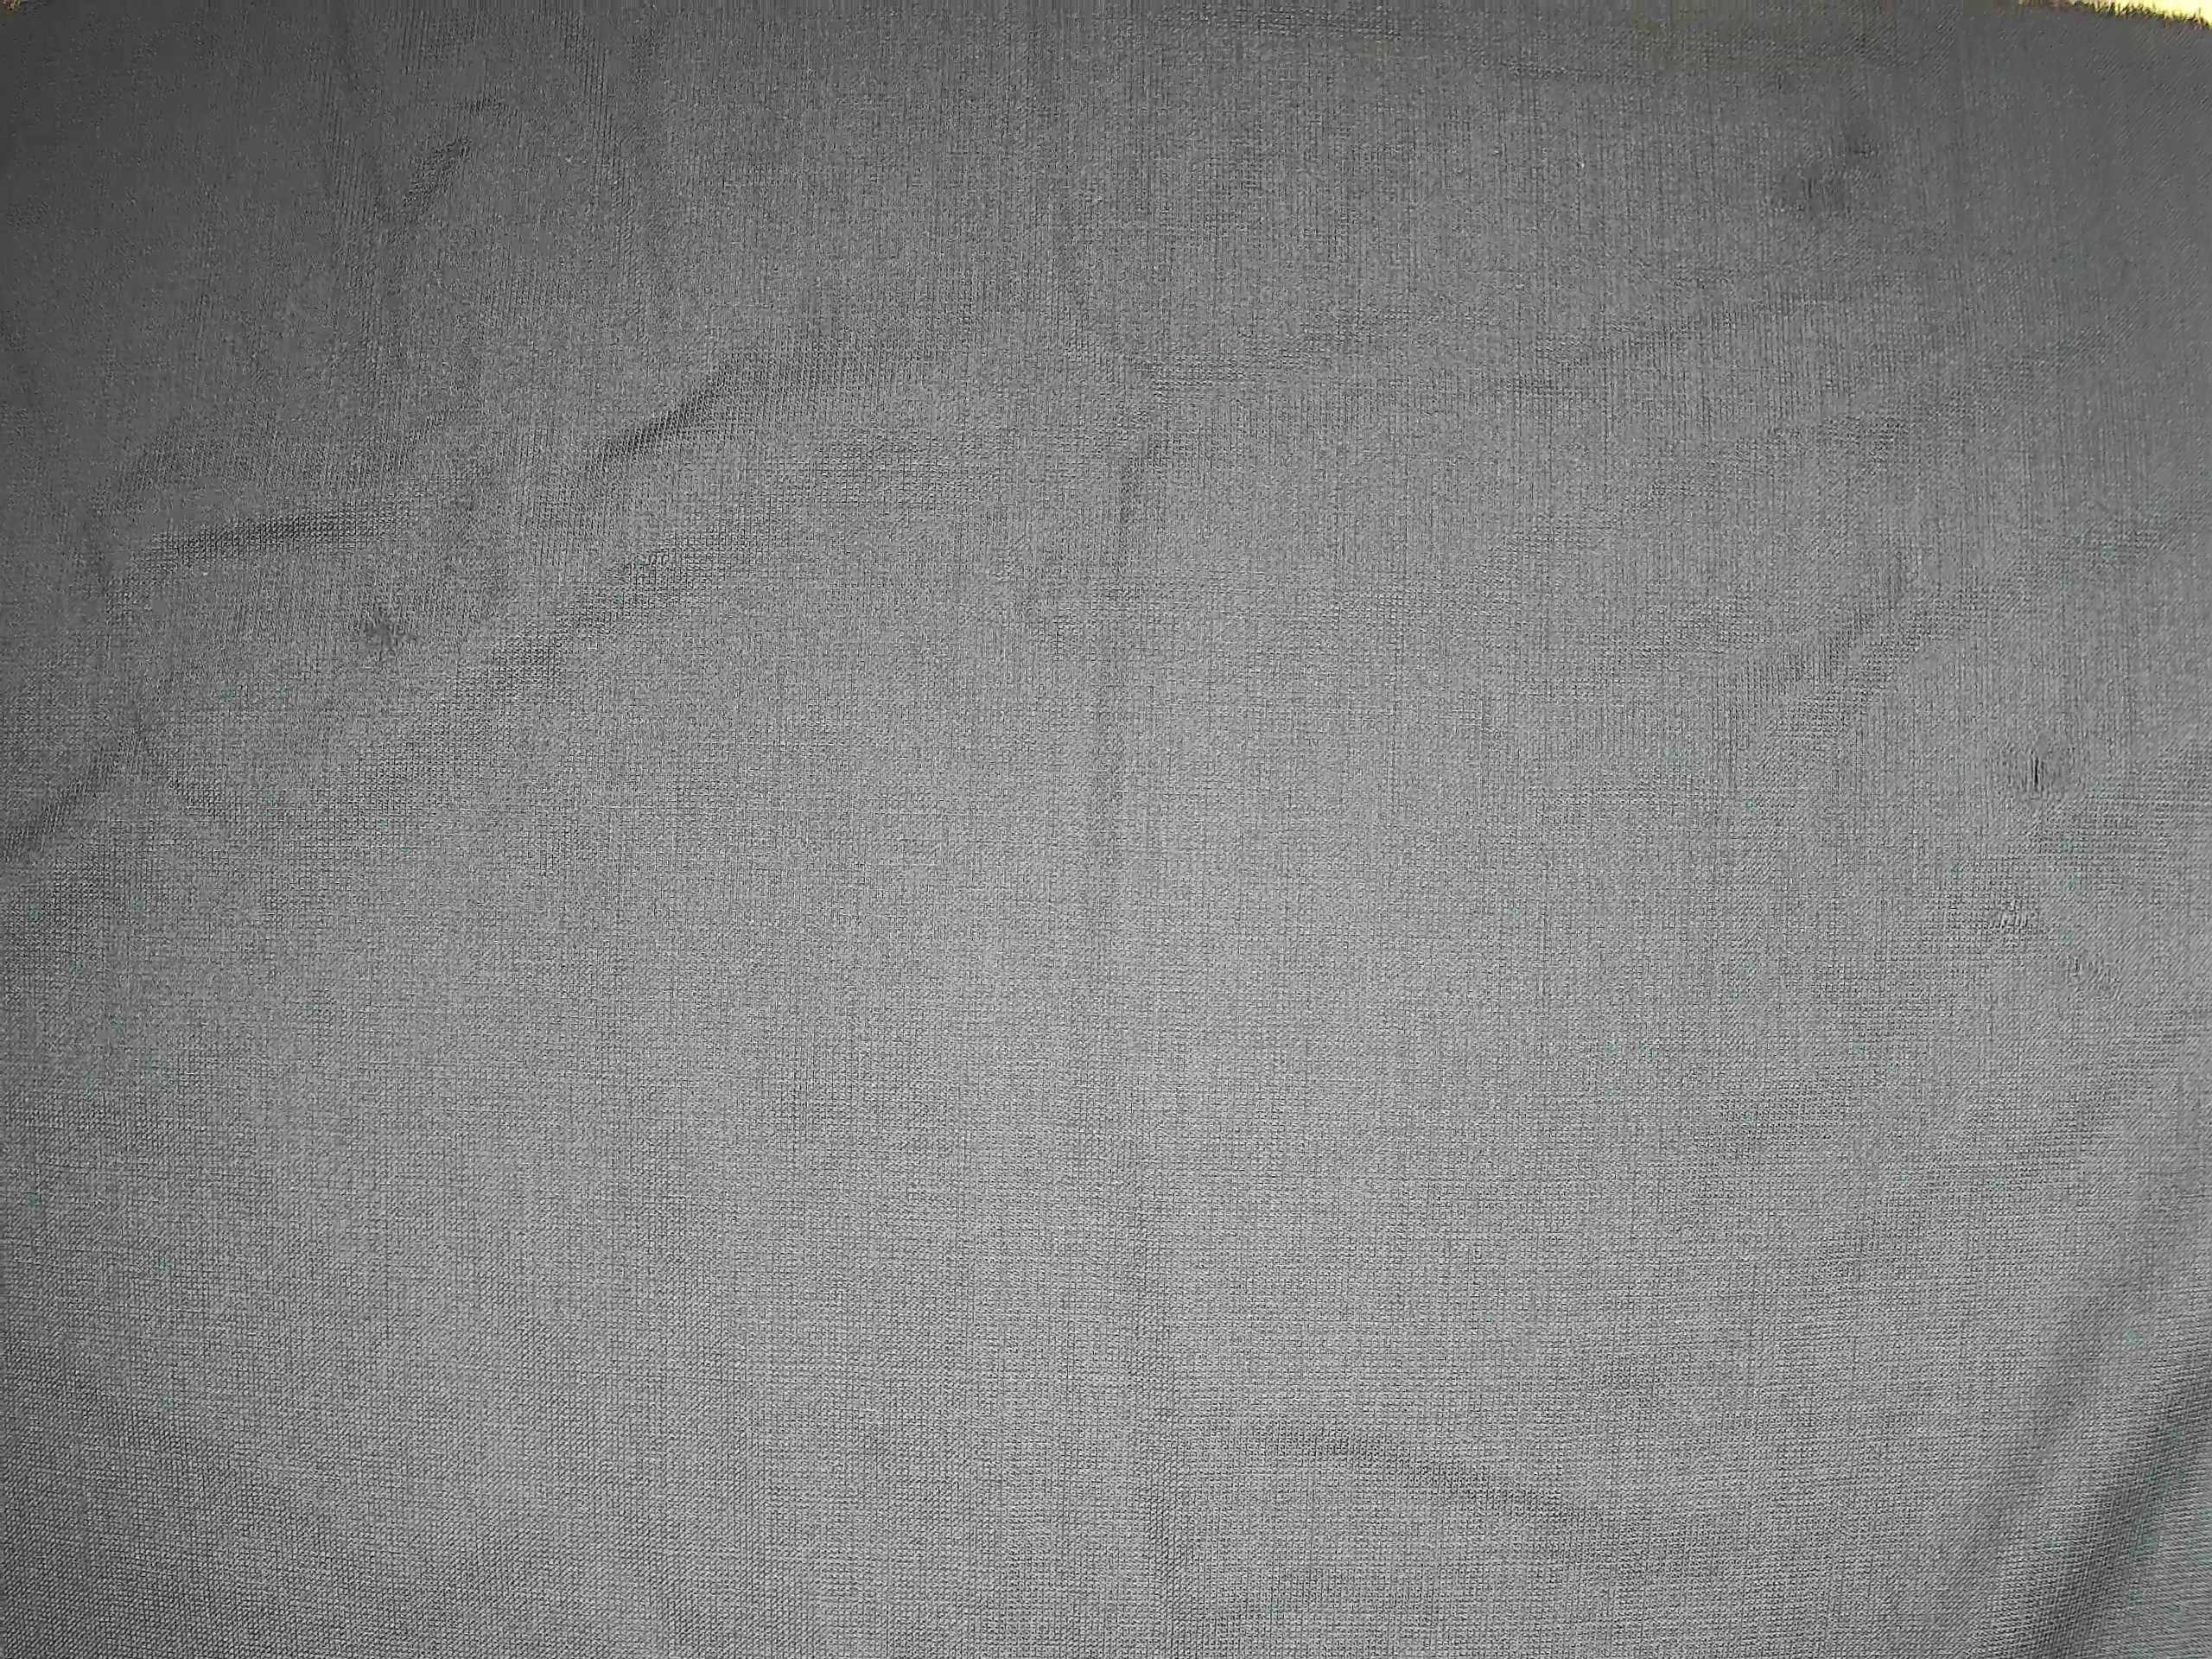tear: (1771, 106, 1904, 230), (340, 596, 428, 673), (1982, 889, 2047, 953), (2062, 945, 2128, 1007), (2006, 744, 2062, 807)
